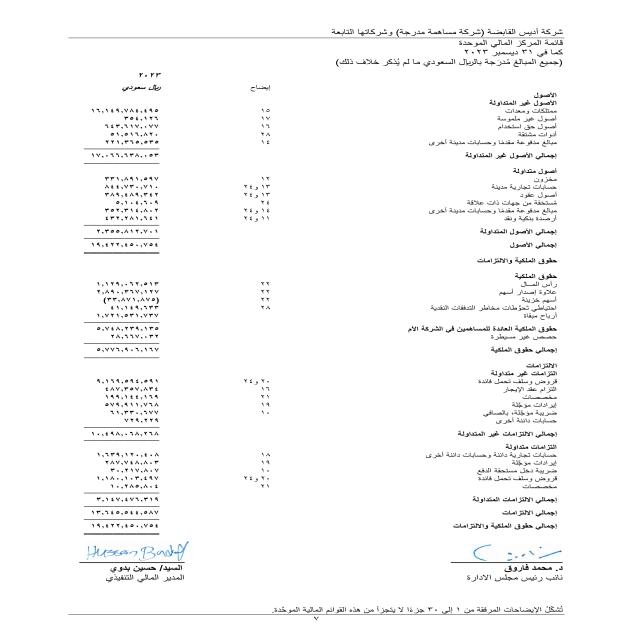financial_sheets: (452, 38, 566, 48)
table: (31, 58, 300, 536)
